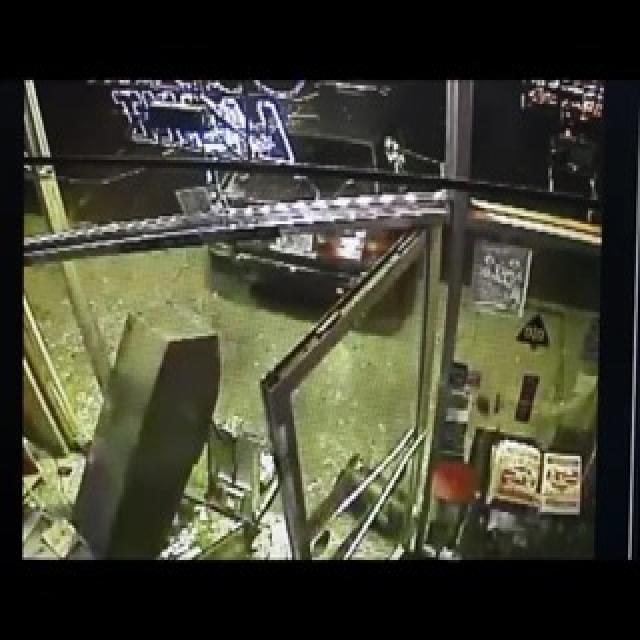burglary: (159, 128, 382, 341)
